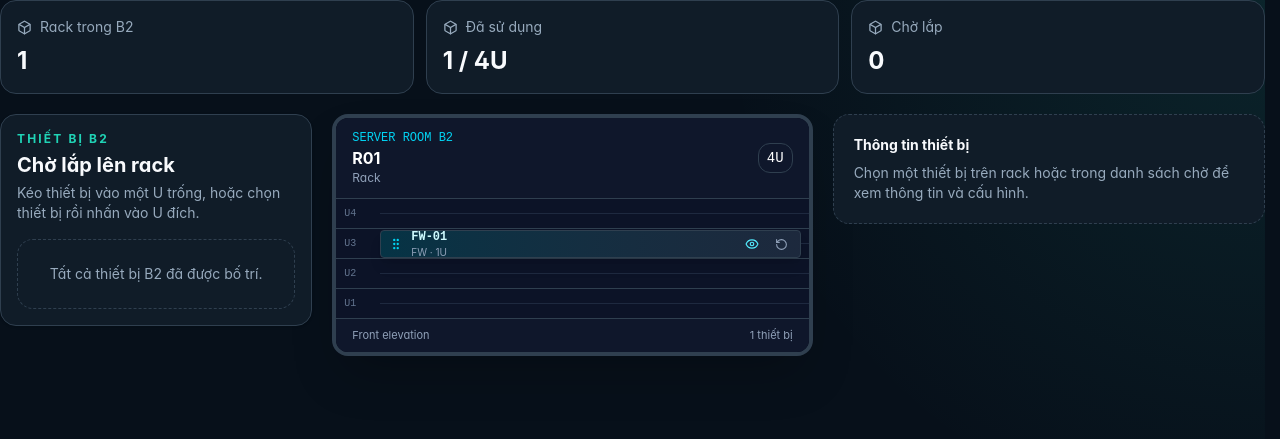
Test: retains visibility and reports a failed save
Click the switch at (752, 244), box [741,233,763,255]
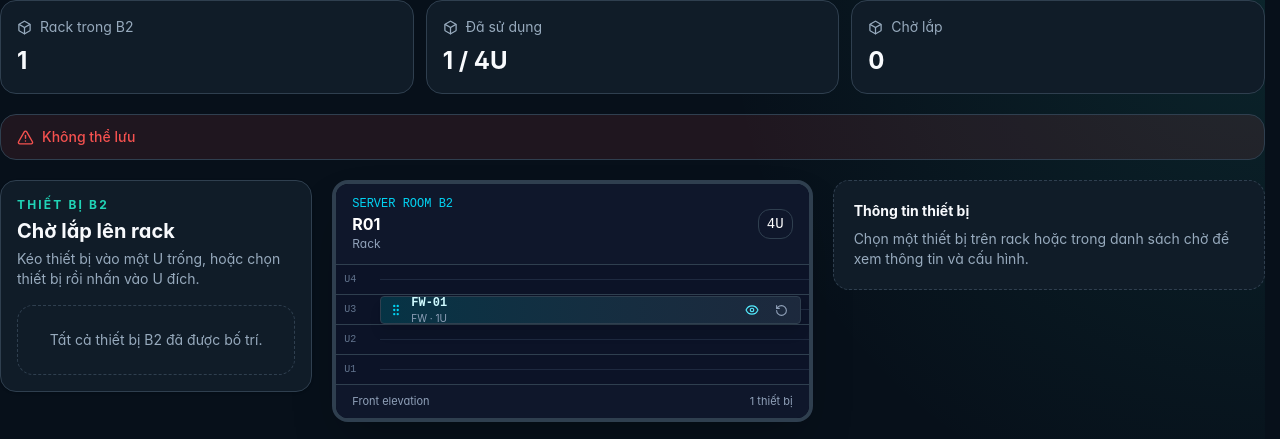
Expected: the switch is checked, [741,299,763,321]
Result: the message reads "Không thể lưu" at [42,128,135,145]
